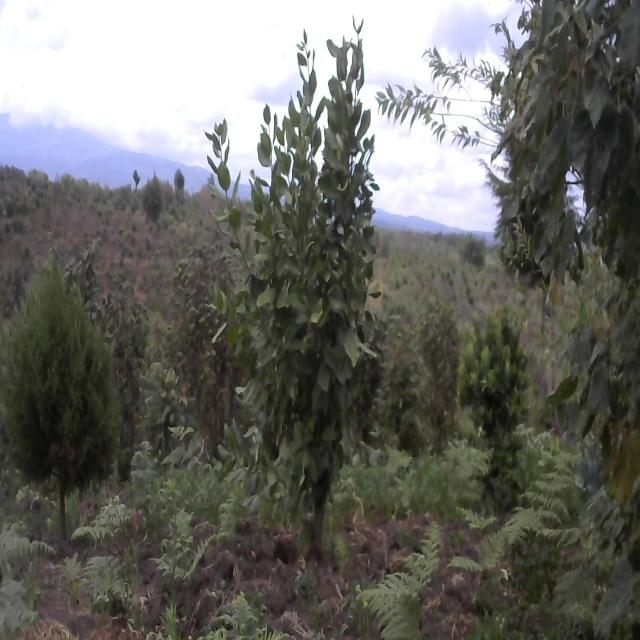cedrus: (3, 258, 124, 501)
other: (204, 26, 385, 529), (501, 0, 640, 533), (457, 272, 538, 504), (170, 250, 243, 430), (142, 177, 162, 229), (171, 163, 190, 196), (132, 165, 143, 193)
